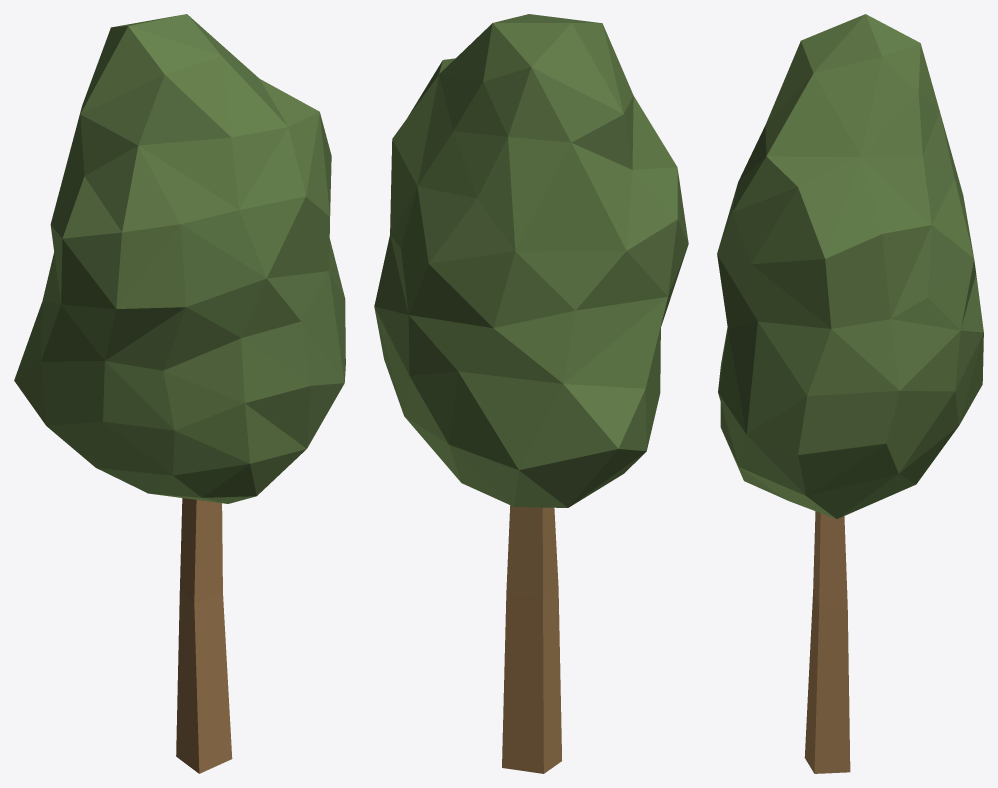
File: Plant.fbx
The picture shows the model from 3 angles, left to right: view 1: azimuth 30°, elevation 25°; view 2: azimuth 150°, elevation 25°; view 3: azimuth 270°, elevation 25°; orthographic projection. The views are drawn at different scales.
Visible parts, largest first — view 1: tree_03; view 2: tree_03; view 3: tree_03.
Part boxes in pixels (<box>): tree_03: <box>14,14,345,773</box>; tree_03: <box>374,14,688,773</box>; tree_03: <box>717,14,983,773</box>.
Size of the model in its own units: 44.99 by 117 by 39.01.
